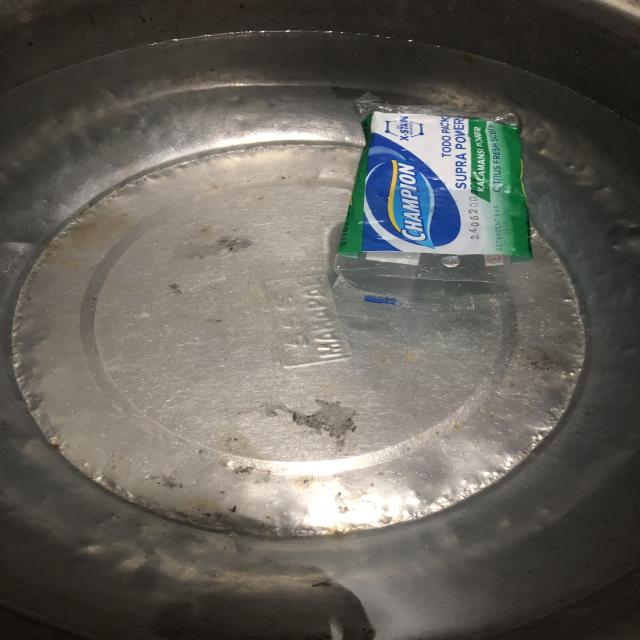Plastic Wrapper: (316, 99, 546, 308)
